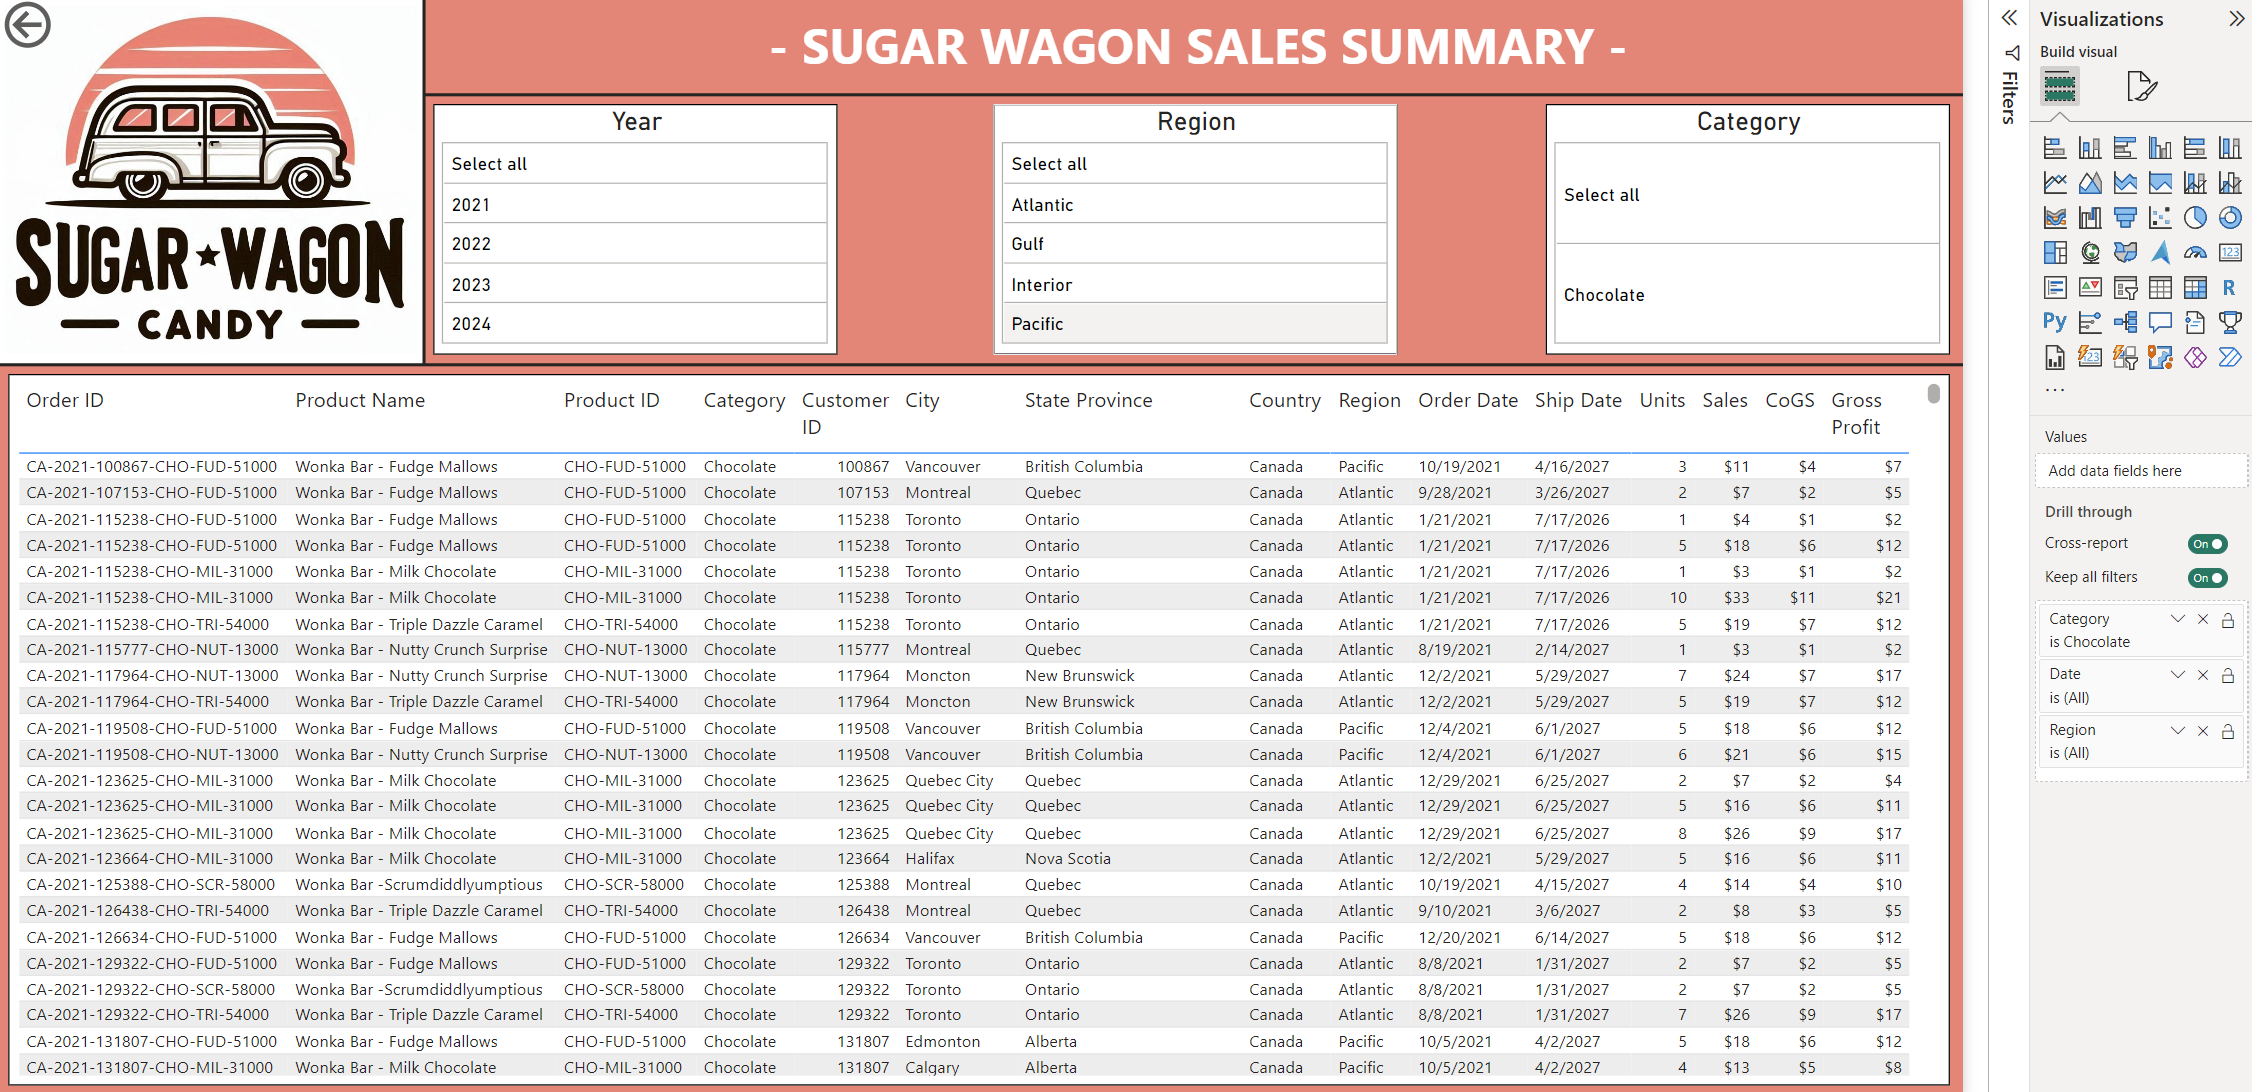

The dashboard page shown, as its layout file describes it:
{"tool":"powerbi","page":{"name":"Drill Through Data","canvas":[1280,720],"ordinal":4},"visuals":[{"type":"image","box":[0,0,278.2,241],"z":0},{"type":"shape","box":[0,234.8,1280.2,12.4],"z":1000},{"type":"shape","box":[272,0,12.4,241],"z":2000},{"type":"shape","box":[278.2,59.4,1002,12.4],"z":3000},{"type":"textbox","box":[284.4,6.2,995.8,53.2],"z":4000},{"type":"tableEx","title":"Cumulative Units Sold","fields":{"Values":["fact CandySales.OrderID","fact CandySales.Product_Name","fact CandySales.ProductID","fact CandySales.Category","fact CandySales.CustomerID","fact CandySales.City","fact CandySales.StateProvince","fact CandySales.CountryRegion","fact CandySales.Region","fact CandySales.OrderDate","fact CandySales.ShipDate","fact CandySales.Units"]},"box":[7.1,247.2,1264.2,463.3],"z":5000},{"type":"advancedSlicerVisual","fields":{"Values":["dim Dates (OrderDate).Date.Variation.Date Hierarchy.Year"]},"box":[283.9,71.4,263.5,163.3],"z":6000},{"type":"advancedSlicerVisual","fields":{"Values":["fact CandySales.Division"]},"box":[1008.2,71.8,263.1,163],"z":7000},{"type":"advancedSlicerVisual","fields":{"Values":["fact CandySales.Region"]},"box":[648.5,71.8,263.1,163],"z":8000},{"type":"actionButton","box":[0,0,100,40],"z":9000}]}

Visuals, with their boxes on the page's 1280x720 design canvas (x1, y1, x2, y2). These are canvas units, not pixel positions in the 2252x1092 screenshot, which may show the page scaled, cropped or inside an application window:
image: 0 0 278 241
shape: 0 235 1280 247
shape: 272 0 284 241
shape: 278 59 1280 72
textbox: 284 6 1280 59
"Cumulative Units Sold" tableEx: 7 247 1271 710
advancedSlicerVisual - dim Dates (OrderDate).Date.Variation.Date Hierarchy.Year: 284 71 547 235
advancedSlicerVisual - fact CandySales.Division: 1008 72 1271 235
advancedSlicerVisual - fact CandySales.Region: 648 72 912 235
actionButton: 0 0 100 40
